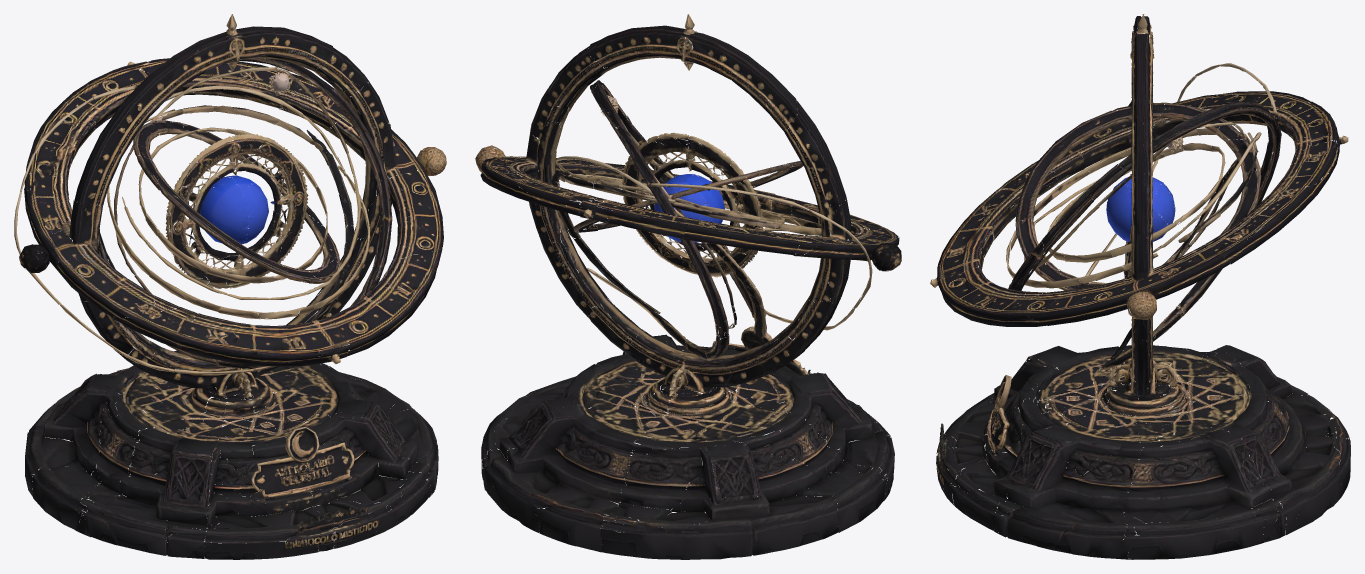
Rendered from astrolabio-celestial.glb.
3 renders of one model, left to right at view 1: azimuth 30°, elevation 25°; view 2: azimuth 150°, elevation 25°; view 3: azimuth 270°, elevation 25°, orthographic.
Visible parts, largest first — view 1: tripo_node_b1afeb6a-5add-40da-9b7e-3e4459e6b8a6; view 2: tripo_node_b1afeb6a-5add-40da-9b7e-3e4459e6b8a6; view 3: tripo_node_b1afeb6a-5add-40da-9b7e-3e4459e6b8a6.
Part boxes in pixels (<box>): tripo_node_b1afeb6a-5add-40da-9b7e-3e4459e6b8a6: <box>14,14,446,559</box>; tripo_node_b1afeb6a-5add-40da-9b7e-3e4459e6b8a6: <box>475,14,901,559</box>; tripo_node_b1afeb6a-5add-40da-9b7e-3e4459e6b8a6: <box>930,14,1350,559</box>.
Size of the model in its own units: 0.9399 by 0.9763 by 0.8122.
1 material, 1 textured.
